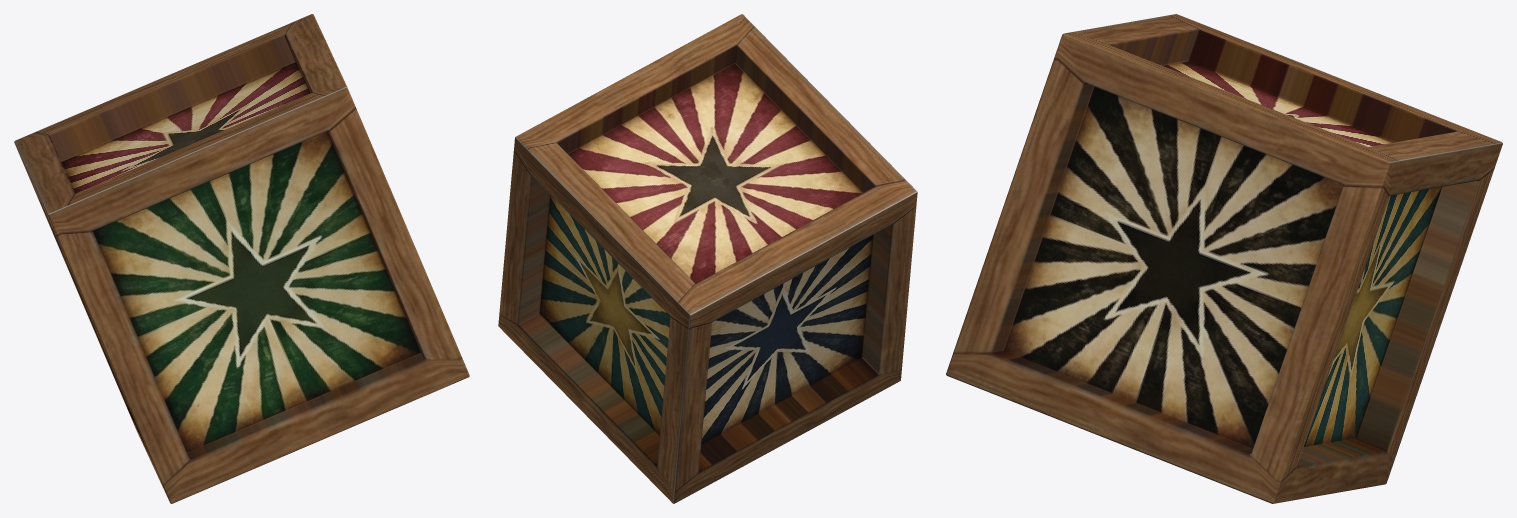
Rendered from StarBox(Fixed).fbx.
3 views of the same model, side by side, from view 1: azimuth 30°, elevation 25°; view 2: azimuth 150°, elevation 25°; view 3: azimuth 270°, elevation 25° (orthographic). The views are drawn at different scales.
Visible parts, largest first — view 1: Cube; view 2: Cube; view 3: Cube.
Boxes of the visible parts, bbox=[...] form: Cube: bbox=[14, 14, 469, 503]; Cube: bbox=[498, 14, 917, 503]; Cube: bbox=[946, 14, 1502, 503].
Bounding box in the file's own units: 3.05 × 2.93 × 3.04.
1 material, 1 textured.
